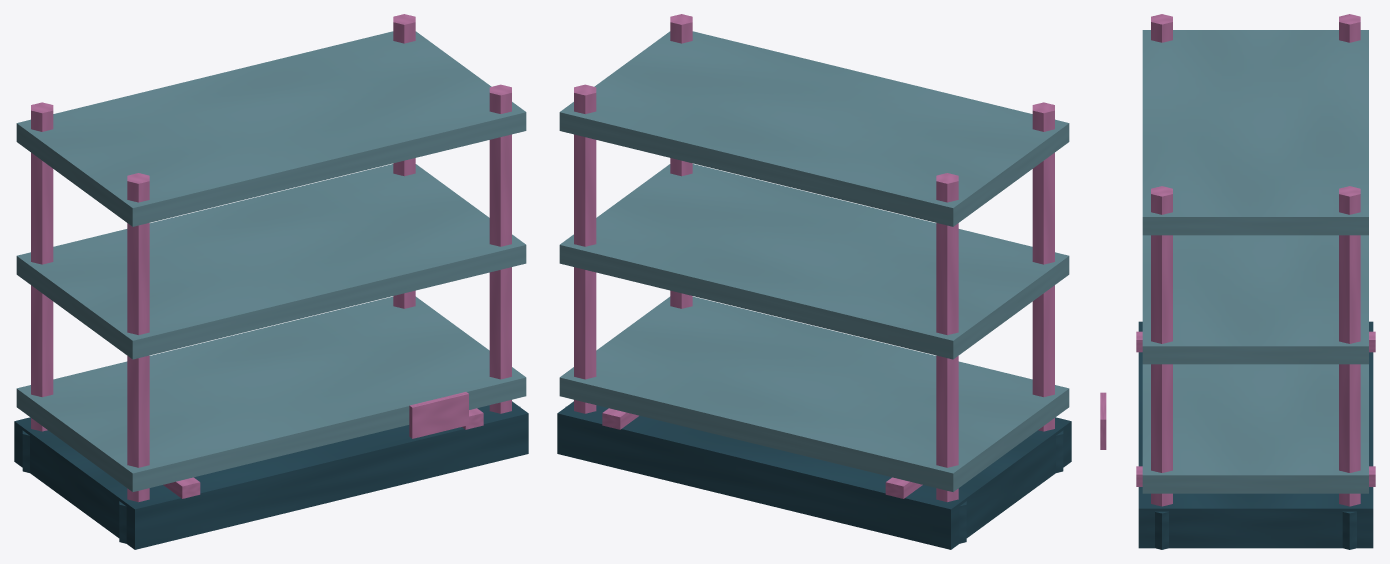
The model's file is atlas100-s065-a06.lod1.glb.
The picture shows the model from 3 angles, left to right: view 1: azimuth 30°, elevation 25°; view 2: azimuth 150°, elevation 25°; view 3: azimuth 270°, elevation 25°; orthographic projection. The views are drawn at different scales.
Parts seen in each view (by area): view 1: atlas100-s065-a06:part-013, atlas100-s065-a06:part-012, atlas100-s065-a06:part-011, atlas100-s065-a06:part-000, atlas100-s065-a06:part-005, atlas100-s065-a06:part-009, atlas100-s065-a06:part-003, atlas100-s065-a06:part-014, atlas100-s065-a06:part-007; view 2: atlas100-s065-a06:part-013, atlas100-s065-a06:part-012, atlas100-s065-a06:part-011, atlas100-s065-a06:part-000, atlas100-s065-a06:part-003, atlas100-s065-a06:part-007, atlas100-s065-a06:part-005, atlas100-s065-a06:part-009; view 3: atlas100-s065-a06:part-013, atlas100-s065-a06:part-012, atlas100-s065-a06:part-011, atlas100-s065-a06:part-000, atlas100-s065-a06:part-009, atlas100-s065-a06:part-007, atlas100-s065-a06:part-003, atlas100-s065-a06:part-005, atlas100-s065-a06:part-008, atlas100-s065-a06:part-010, atlas100-s065-a06:part-014.
Boxes of the visible parts, left/top/right/bottom form: atlas100-s065-a06:part-013: left=16, top=31, right=526, bottom=226; atlas100-s065-a06:part-012: left=16, top=164, right=526, bottom=359; atlas100-s065-a06:part-011: left=16, top=296, right=526, bottom=491; atlas100-s065-a06:part-000: left=14, top=401, right=528, bottom=549; atlas100-s065-a06:part-005: left=127, top=173, right=149, bottom=502; atlas100-s065-a06:part-009: left=489, top=84, right=511, bottom=413; atlas100-s065-a06:part-003: left=31, top=102, right=53, bottom=431; atlas100-s065-a06:part-014: left=409, top=392, right=468, bottom=438; atlas100-s065-a06:part-007: left=393, top=14, right=415, bottom=308; atlas100-s065-a06:part-013: left=559, top=31, right=1069, bottom=226; atlas100-s065-a06:part-012: left=559, top=164, right=1069, bottom=359; atlas100-s065-a06:part-011: left=559, top=296, right=1069, bottom=491; atlas100-s065-a06:part-000: left=557, top=401, right=1071, bottom=549; atlas100-s065-a06:part-003: left=936, top=173, right=958, bottom=502; atlas100-s065-a06:part-007: left=574, top=84, right=596, bottom=413; atlas100-s065-a06:part-005: left=1032, top=102, right=1054, bottom=431; atlas100-s065-a06:part-009: left=670, top=14, right=692, bottom=308; atlas100-s065-a06:part-013: left=1142, top=30, right=1368, bottom=235; atlas100-s065-a06:part-012: left=1142, top=235, right=1368, bottom=364; atlas100-s065-a06:part-011: left=1142, top=364, right=1368, bottom=493; atlas100-s065-a06:part-000: left=1138, top=321, right=1373, bottom=548; atlas100-s065-a06:part-009: left=1151, top=186, right=1172, bottom=506; atlas100-s065-a06:part-007: left=1339, top=186, right=1360, bottom=506; atlas100-s065-a06:part-003: left=1339, top=14, right=1360, bottom=42; atlas100-s065-a06:part-005: left=1151, top=14, right=1172, bottom=42; atlas100-s065-a06:part-008: left=1342, top=511, right=1356, bottom=549; atlas100-s065-a06:part-010: left=1155, top=511, right=1168, bottom=549; atlas100-s065-a06:part-014: left=1100, top=392, right=1106, bottom=449.
Size of the model in its own units: 2.69 by 2.3 by 1.64.
3 materials, 3 textured.
